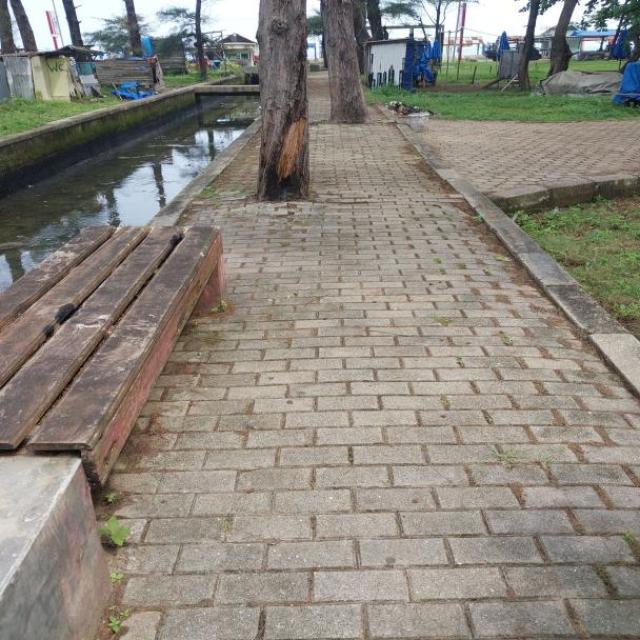tree ahead at: (255, 2, 311, 213), (322, 1, 366, 120)
